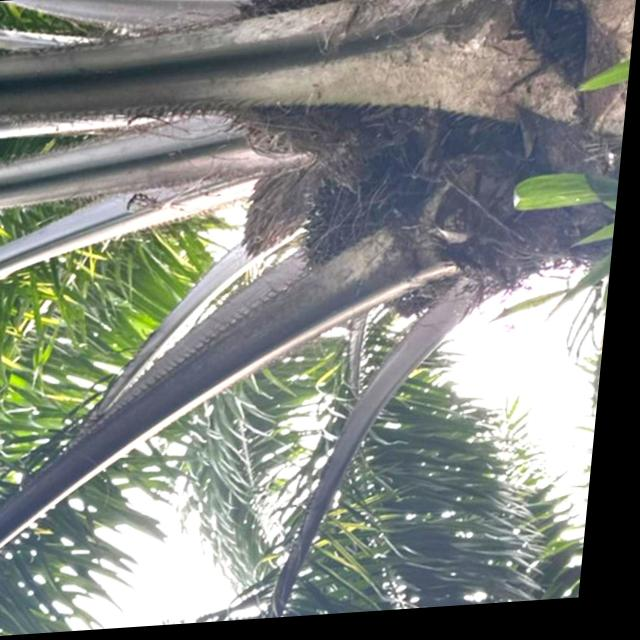unripe: (287, 156, 435, 292)
